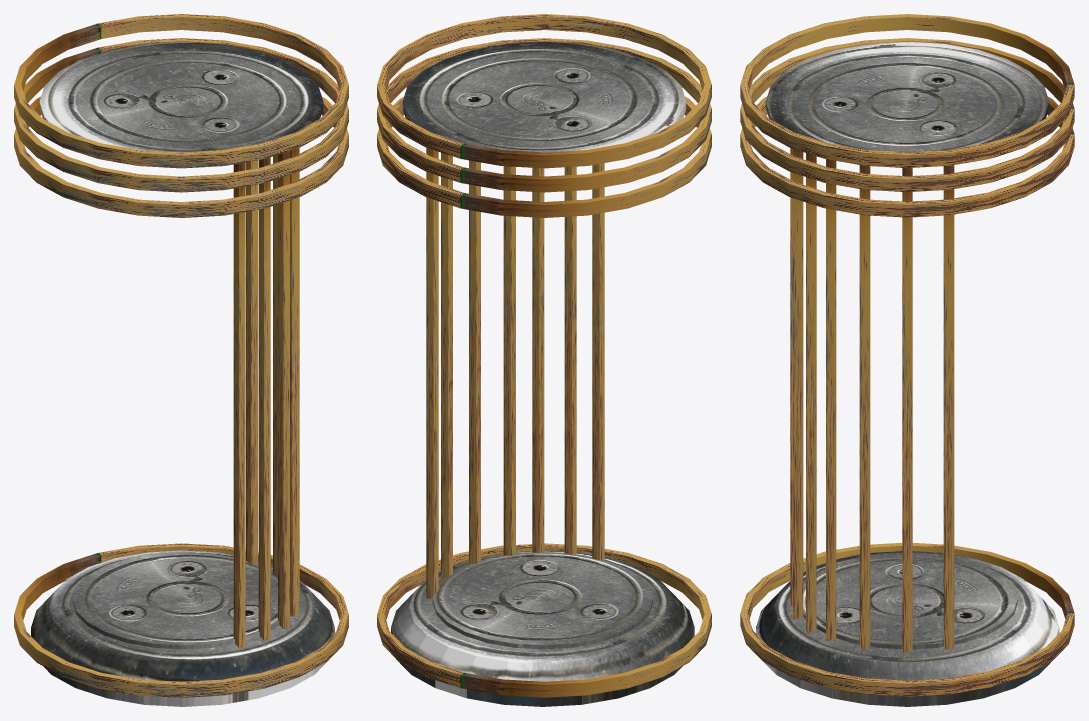
The model's file is Teleport.FBX.
The picture shows the model from 3 angles, left to right: view 1: azimuth 30°, elevation 25°; view 2: azimuth 150°, elevation 25°; view 3: azimuth 270°, elevation 25°; orthographic projection.
Parts seen in each view (by area): view 1: Teleport; view 2: Teleport; view 3: Teleport.
Part boxes in pixels (x1,y1,x2,y2): Teleport: (14, 14, 348, 706); Teleport: (377, 14, 711, 706); Teleport: (740, 14, 1074, 706).
Size of the model in its own units: 152 by 279 by 152.
